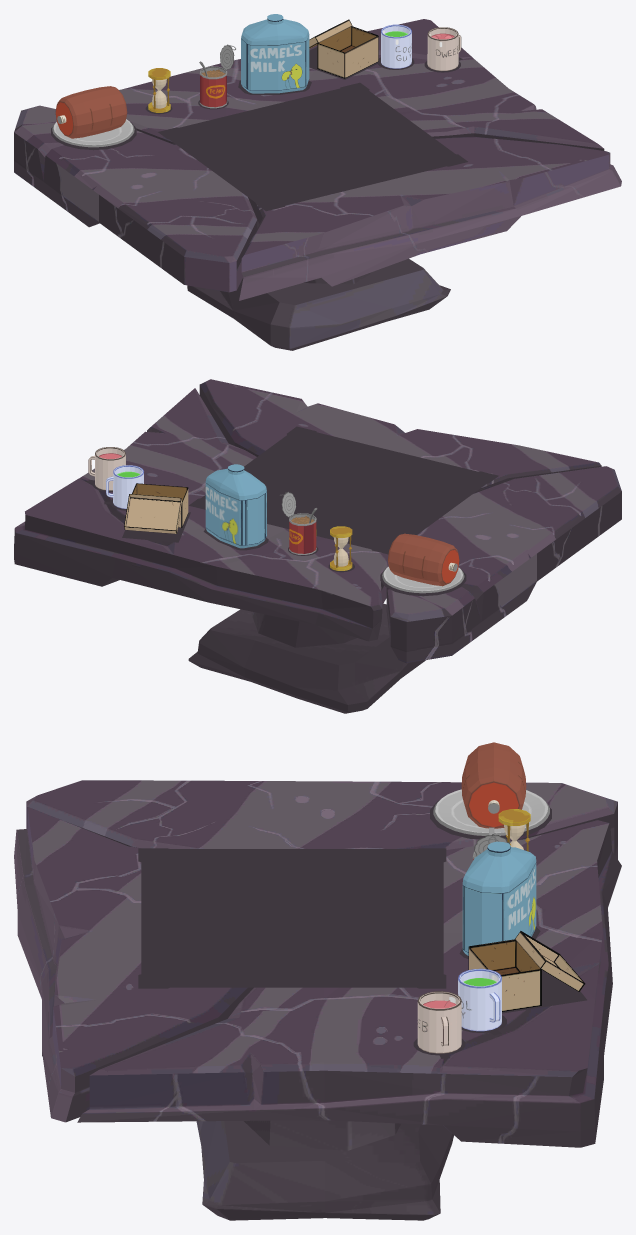
File: Coliseum_Table.glb
3 views of the same model, one above another, from view 1: azimuth 30°, elevation 25°; view 2: azimuth 150°, elevation 25°; view 3: azimuth 270°, elevation 25° (orthographic). The views are drawn at different scales.
Visible parts, largest first — view 1: Coliseum_Table, Coliseum_Table_Objects; view 2: Coliseum_Table, Coliseum_Table_Objects; view 3: Coliseum_Table, Coliseum_Table_Objects.
Boxes of the visible parts, x1=… form: Coliseum_Table: x1=14, y1=19, x2=621, y2=350; Coliseum_Table_Objects: x1=52, y1=14, x2=461, y2=147; Coliseum_Table: x1=14, y1=379, x2=621, y2=713; Coliseum_Table_Objects: x1=88, y1=447, x2=464, y2=593; Coliseum_Table: x1=14, y1=780, x2=621, y2=1220; Coliseum_Table_Objects: x1=417, y1=742, x2=585, y2=1053.
Size of the model in its own units: 5.26 by 2.76 by 4.5.
2 materials, 2 textured.
